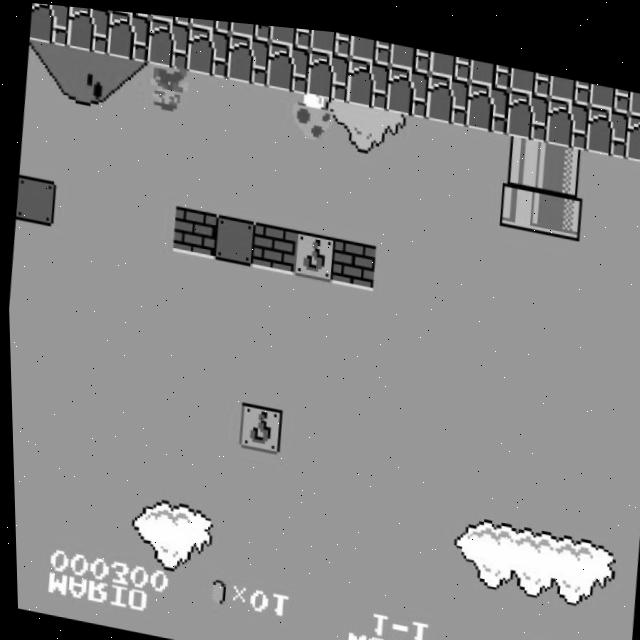1- brick_block: (169, 202, 217, 255), (249, 216, 296, 270), (329, 231, 376, 284)
11- little_mario: (141, 57, 190, 113)
12- mushroom: (285, 82, 334, 139)
13- mystery_block: (289, 223, 336, 277), (235, 397, 281, 450)
14- pipe: (500, 124, 547, 178), (539, 131, 586, 185)
15- pipe_head: (496, 169, 543, 222), (536, 176, 583, 229)
17- undestructible_block: (463, 72, 511, 125), (224, 28, 271, 82), (264, 35, 311, 89), (304, 42, 351, 96), (384, 57, 431, 111), (423, 64, 470, 118), (583, 93, 630, 147), (144, 14, 191, 67), (184, 21, 231, 74), (344, 50, 391, 103), (503, 79, 550, 132), (543, 86, 590, 139), (104, 8, 151, 59), (64, 5, 111, 52), (28, 2, 71, 45), (508, 56, 552, 87), (428, 42, 471, 73), (468, 49, 511, 80), (348, 28, 392, 58), (388, 35, 432, 65), (548, 64, 591, 94), (588, 71, 631, 101), (308, 23, 352, 51), (268, 20, 311, 44), (622, 100, 640, 151), (229, 17, 272, 37), (189, 14, 232, 30), (149, 11, 192, 22), (627, 78, 640, 106)
3- empty_block: (209, 209, 256, 262), (13, 173, 56, 226)
